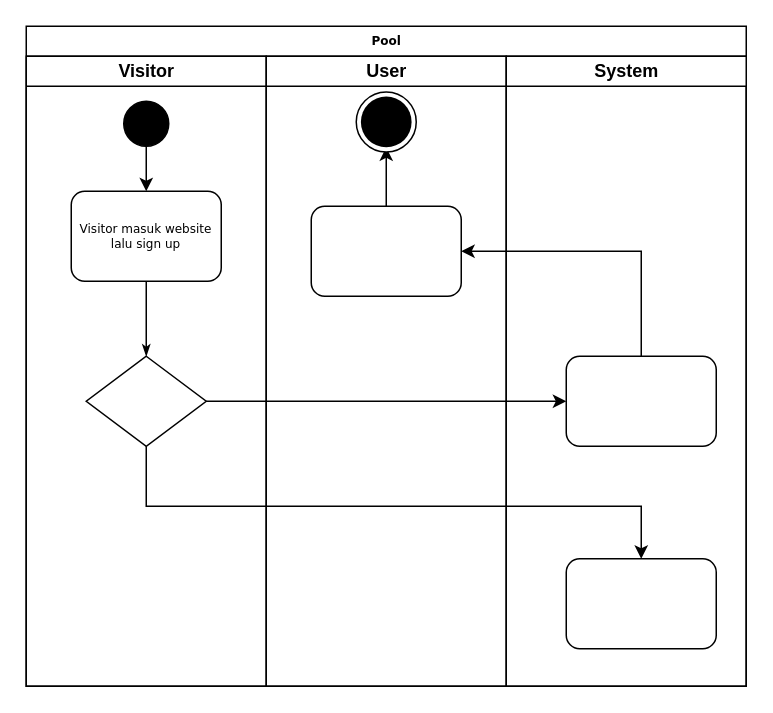
This 773x713 diagram has some shape labels left out. The shapes that lost their labels are listed below. From the top down, each one's centre as x and y in pixels, then its label:
At pixel 385 250: "Vistor masuk sebagai user".
At pixel 640 400: "Visitor berhasil sign up".
At pixel 640 603: "Visitor gagal sign up".
